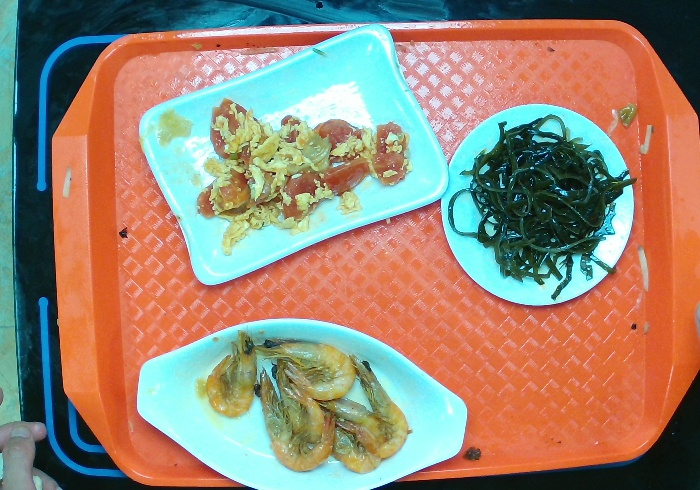RJxy-Si_Fang_Ao_Bian_Wan: (137, 23, 455, 288)
RJxy-Xiao_Yuan_Die: (432, 102, 651, 308)
RJxy-Yu_Pan: (133, 308, 475, 490)
